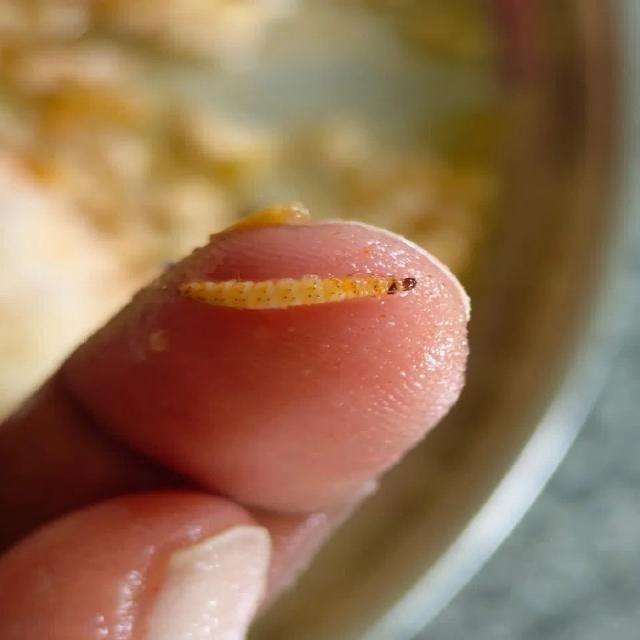worm: (139, 220, 439, 353)
